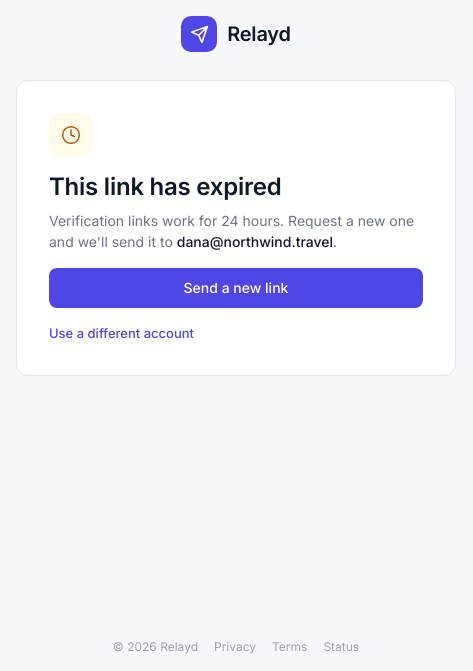
Scenario: B3 Verify email › B3c: a rejected token offers a new link, and only once
The width and height of the screenshot is (473, 671).
Expected: the heading "This link has expired" is shown, [49, 172, 282, 201]
Click the button "Send a new link".
click(236, 288)  # box [49, 268, 423, 308]
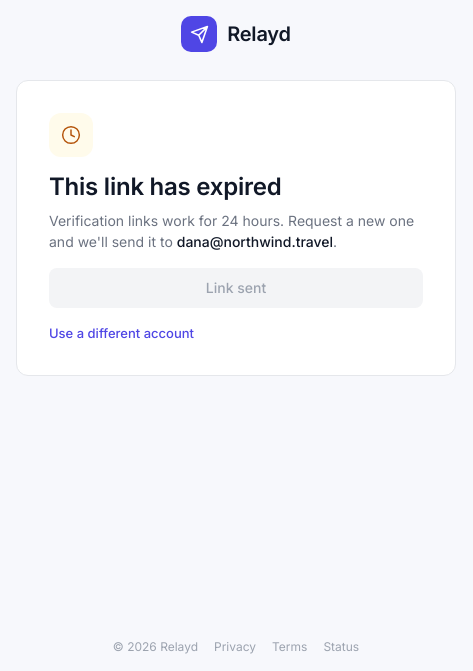
Expected: the button "Link sent" is disabled, [49, 268, 423, 308]
